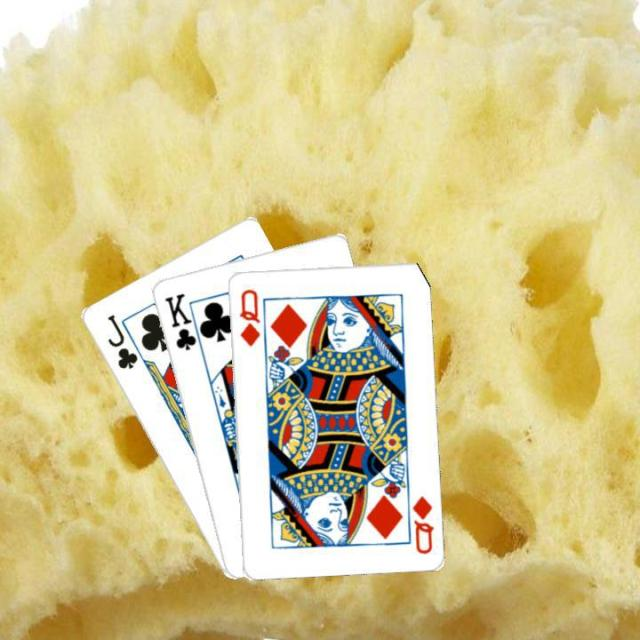JC: (102, 310, 140, 372)
KC: (160, 289, 205, 354)
QD: (235, 284, 262, 348), (408, 492, 435, 556)
